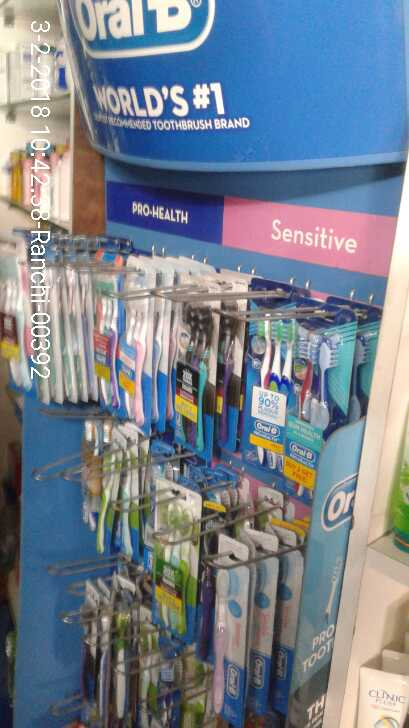oralb: (239, 309, 354, 476)
